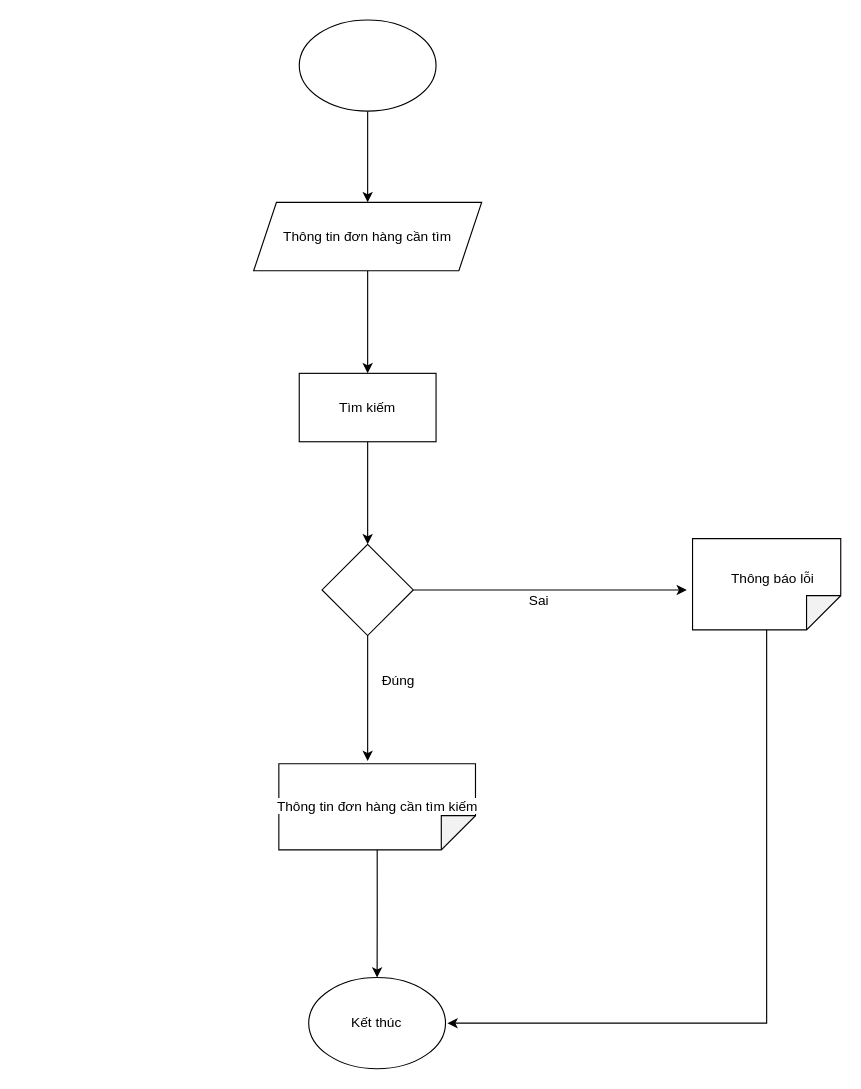
This 861x1089 diagram has some shape labels left out. Each missing label, with the centre of its shape:
"Bắt đầu" goes at point (367, 65).
"Tồn tại" goes at point (367, 589).
